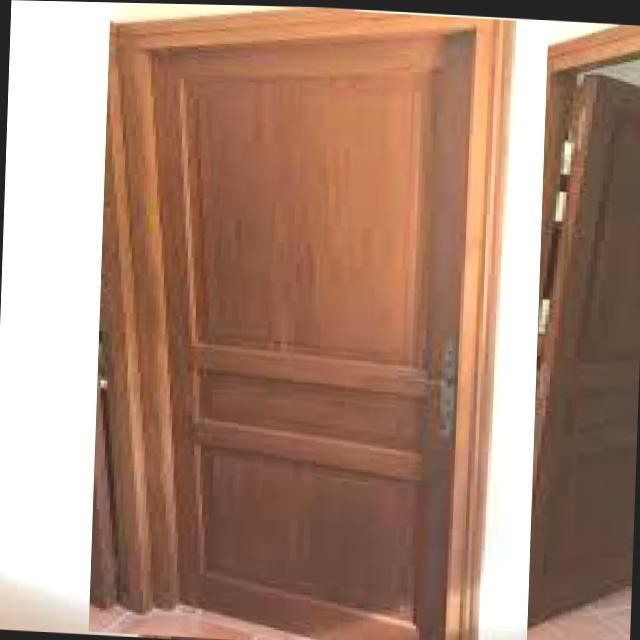close: (88, 1, 551, 639)
